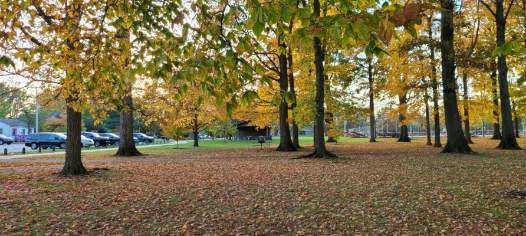tree: (52, 1, 91, 177), (438, 1, 475, 158), (111, 1, 144, 157), (493, 1, 522, 151), (308, 1, 332, 160), (270, 2, 294, 152), (428, 16, 443, 149), (364, 9, 378, 146), (396, 26, 412, 142), (488, 29, 502, 139), (462, 27, 474, 144), (188, 46, 201, 149), (290, 41, 302, 147), (420, 58, 432, 145), (326, 66, 336, 144)
